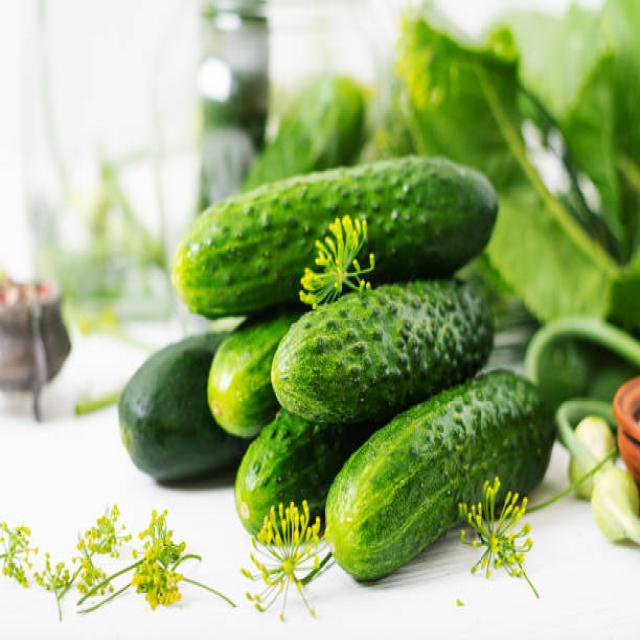cucumber: (170, 157, 556, 583)
